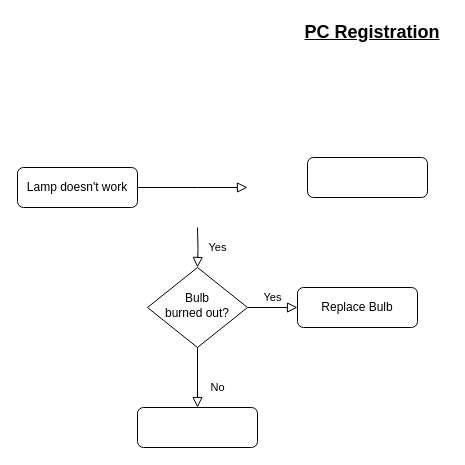
Image size: 465x465. Some labels were removed from this diagram. The shapes that lost their labels are listed below. From the top down, each one's box as (x1, y1, x2, y2) in pixels, then its label:
(306, 156, 428, 198): Plug in lamp
(136, 406, 258, 448): Repair Lamp
